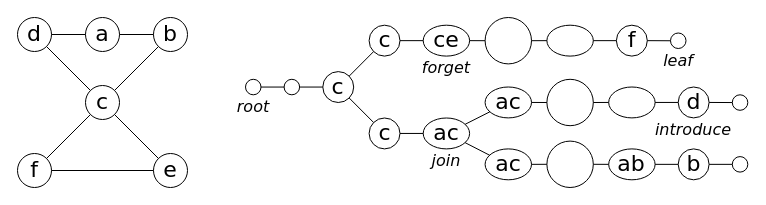
The diagram is 766 pixels wide and 205 high, and some of its shapes have lost their labels. The shapes that lost their labels are listed below. From the top down, each one's centre as x and y in pixels, then its label:
At pixel 508 40: "cef".
At pixel 569 40: "cf".
At pixel 569 102: "acd".
At pixel 631 102: "ad".
At pixel 569 164: "abc".
